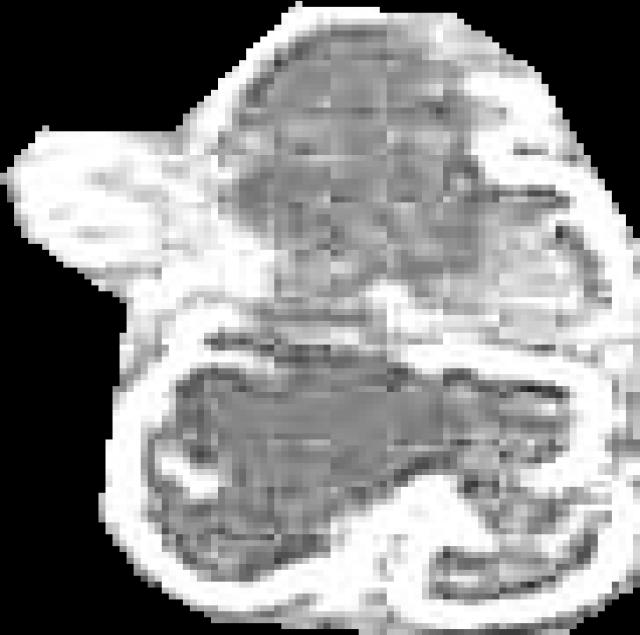tumor_good_chance: (0, 1, 640, 635)
